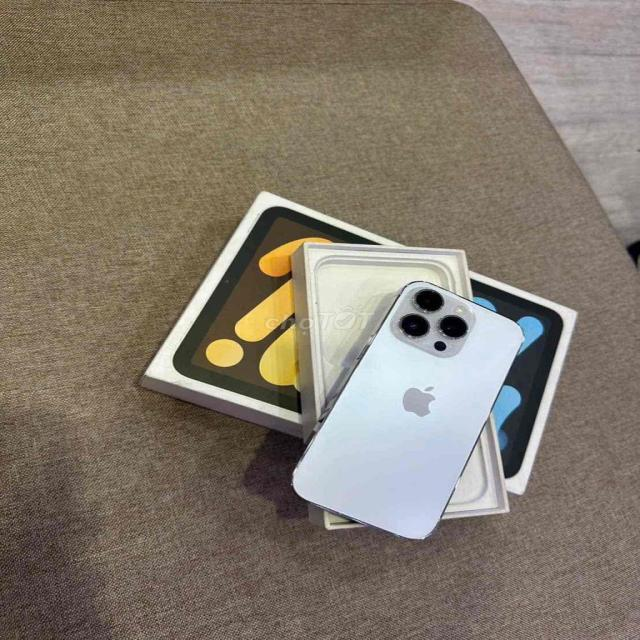gen_14: (294, 282, 522, 539)
